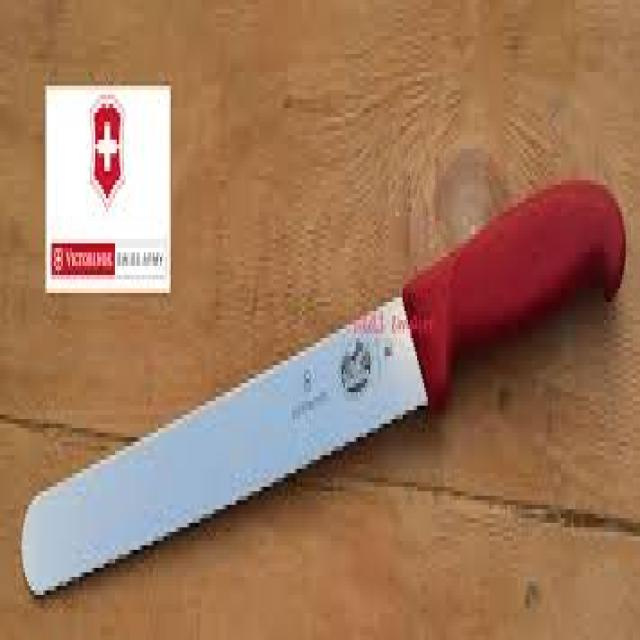Knife: (22, 176, 624, 590)
